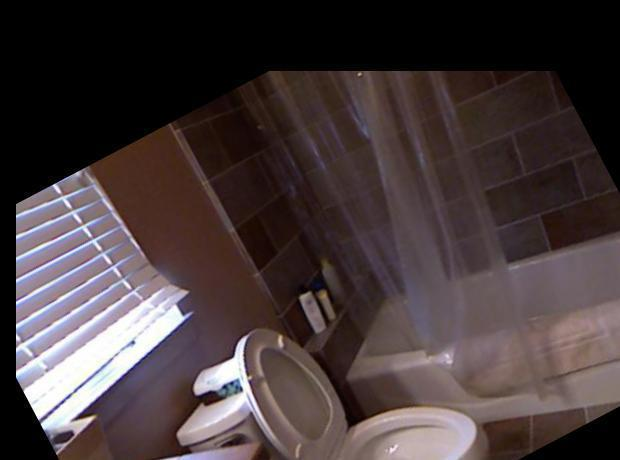Sanitario: (161, 249, 511, 460)
